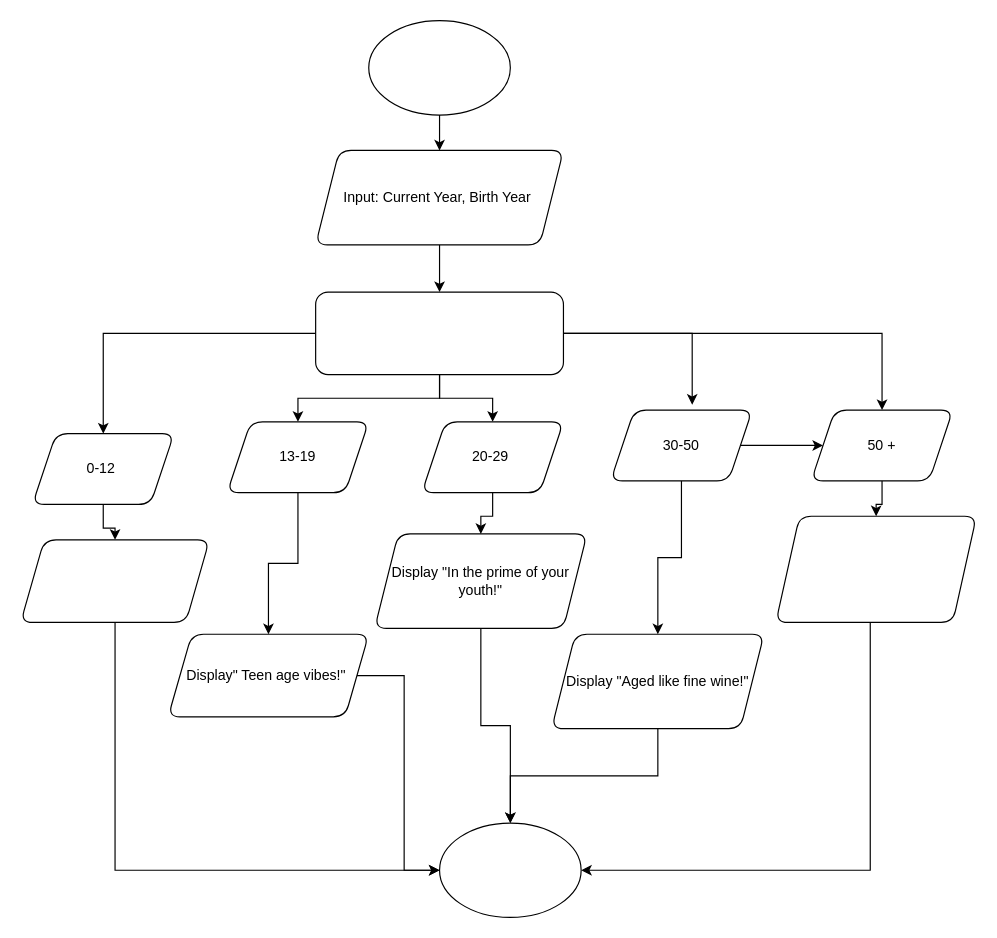
The diagram is 997 pixels wide and 938 high, and some of its shapes have lost their labels. The centre of each missing label's shape, as x and y in pixels:
Calculate: Age = Current Year- Birth Year: (x=438, y=333)
Display : Golden years are golden!": (x=875, y=568)
Display: "Still a kiddo!": (x=114, y=580)
END: (x=509, y=869)
Start: (x=439, y=67)
